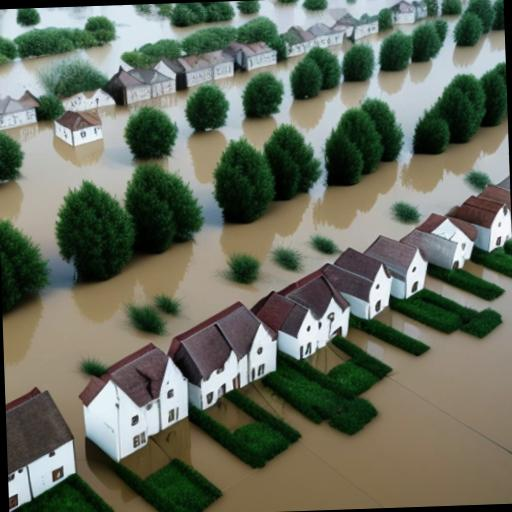flood: (2, 116, 508, 512), (191, 263, 512, 512), (148, 29, 505, 221), (0, 105, 134, 268), (0, 4, 209, 76), (257, 0, 397, 31), (356, 19, 427, 62), (0, 53, 66, 97), (401, 153, 445, 192), (212, 1, 255, 26), (438, 14, 460, 42), (330, 38, 352, 59), (290, 55, 302, 61)
house: (72, 342, 194, 466), (162, 297, 278, 418), (248, 264, 350, 364), (4, 384, 76, 512), (352, 226, 427, 309), (452, 176, 512, 256), (414, 212, 473, 270), (50, 110, 104, 156), (112, 66, 160, 112), (0, 89, 41, 135), (227, 39, 278, 75), (330, 11, 378, 46), (178, 54, 218, 92), (60, 85, 114, 112), (280, 24, 318, 60), (150, 58, 179, 96), (308, 20, 344, 49), (386, 0, 416, 28)
